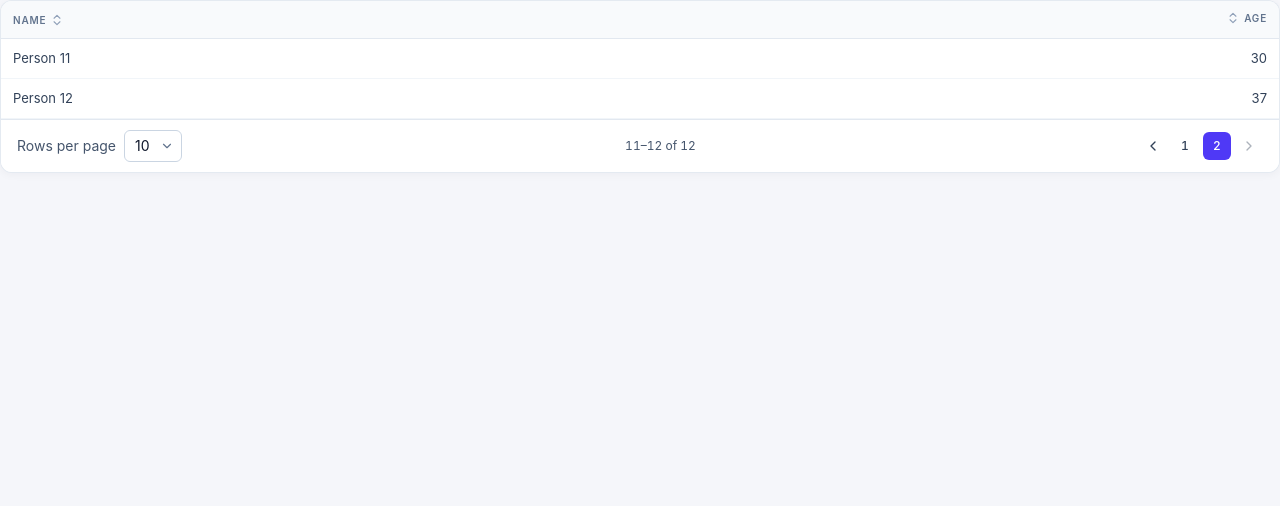
Test: DataTable › clamps an out-of-range page when the dataset shrinks
The image size is (1280, 506).
Expected: the text "11–12 of 12" is shown, [625,138,696,154]
Step 1. Click the button "Age" → [1247, 18], box [1222,11,1271,25]
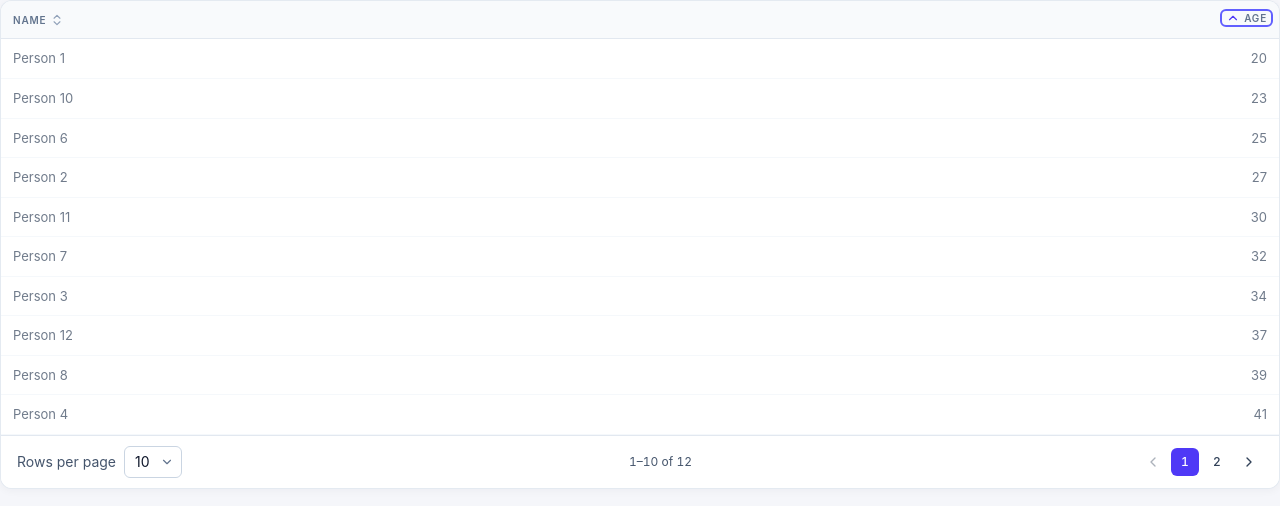
Expected: the text "1–10 of 12" is shown, [629,454,692,470]
